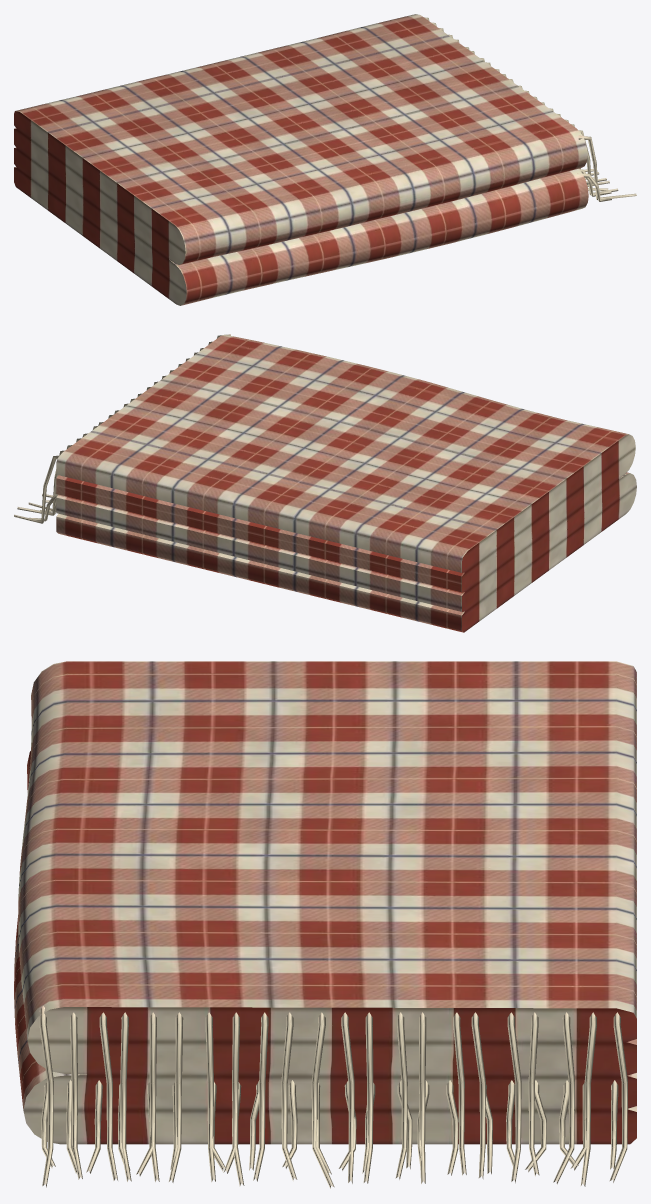
Rendered from blanket.glb.
The picture shows the model from 3 angles, top to bottom: view 1: azimuth 30°, elevation 25°; view 2: azimuth 150°, elevation 25°; view 3: azimuth 270°, elevation 25°; orthographic projection. The views are drawn at different scales.
Visible parts, largest first — view 1: blanket_body, blanket_fringe; view 2: blanket_body, blanket_fringe; view 3: blanket_body, blanket_fringe.
Boxes of the visible parts, bbox=[...] form: blanket_body: bbox=[14, 14, 588, 305]; blanket_fringe: bbox=[424, 17, 636, 201]; blanket_body: bbox=[56, 334, 636, 632]; blanket_fringe: bbox=[14, 334, 230, 523]; blanket_body: bbox=[14, 661, 636, 1144]; blanket_fringe: bbox=[39, 1006, 627, 1188].
Size of the model in its own units: 2.73 by 0.4506 by 1.83.
1 material, 1 textured.
